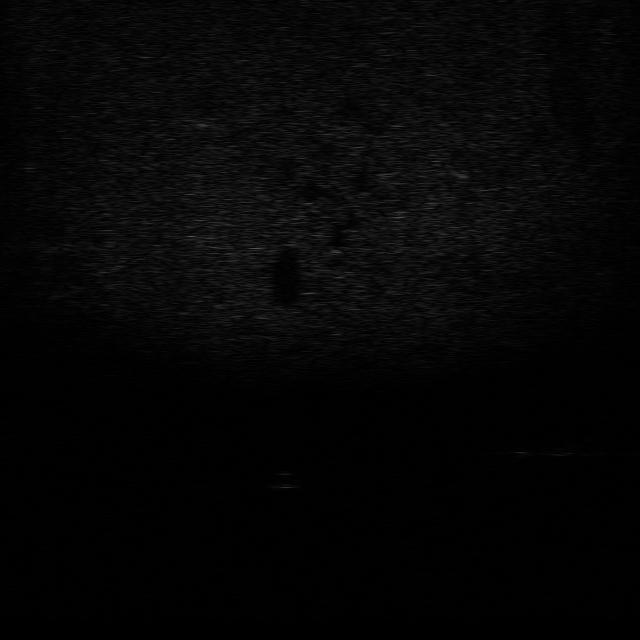ball: (264, 467, 304, 492)
human body: (498, 431, 598, 461)
